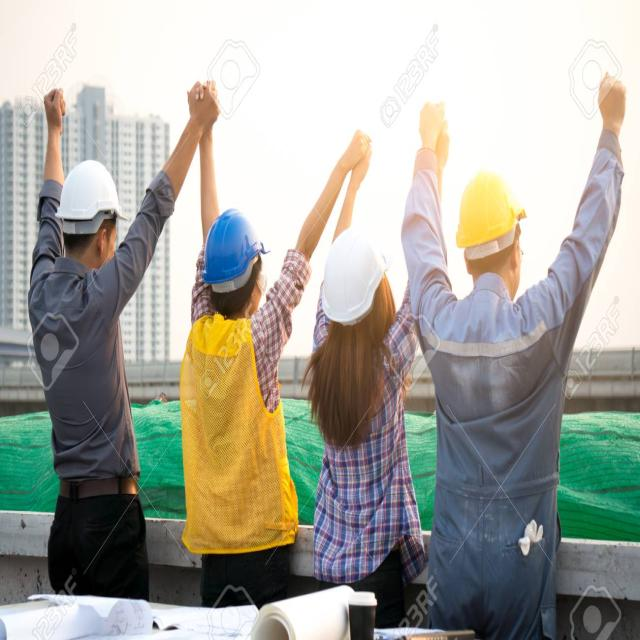helmet: (321, 226, 392, 329), (453, 171, 527, 262), (201, 208, 273, 295), (55, 156, 131, 234)
vest: (180, 311, 297, 557)
